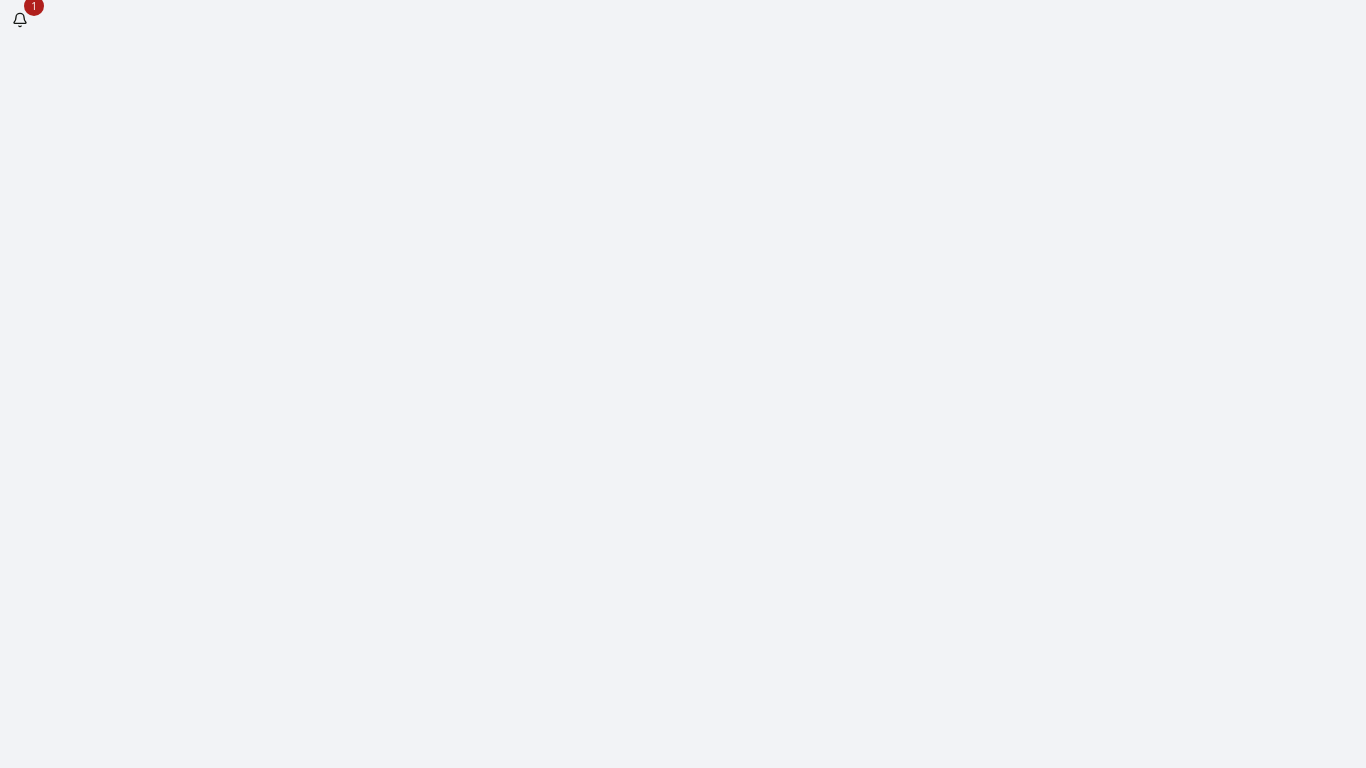
Test: NotificationBell › opens the list, marks an item read, and navigates to its conversation
The image size is (1366, 768).
Later steps or results of the test are not shown.
Click the button named "Notifications, 1 unread" at (20, 20), box [0,0,40,40]
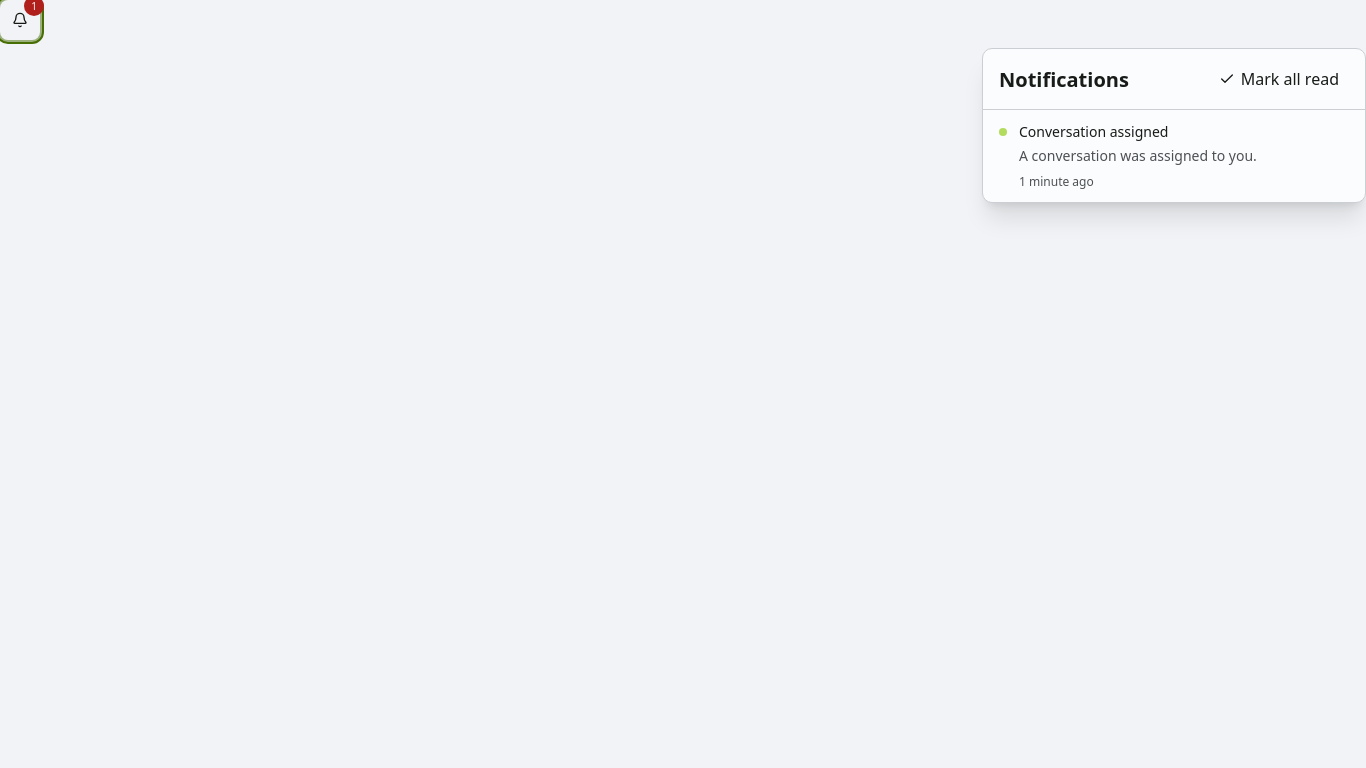
Expected: the text "A conversation was assigned to you." is shown, [1019,146,1257,165]
Expected: the text "1 minute ago" is shown, [1019,173,1094,190]
